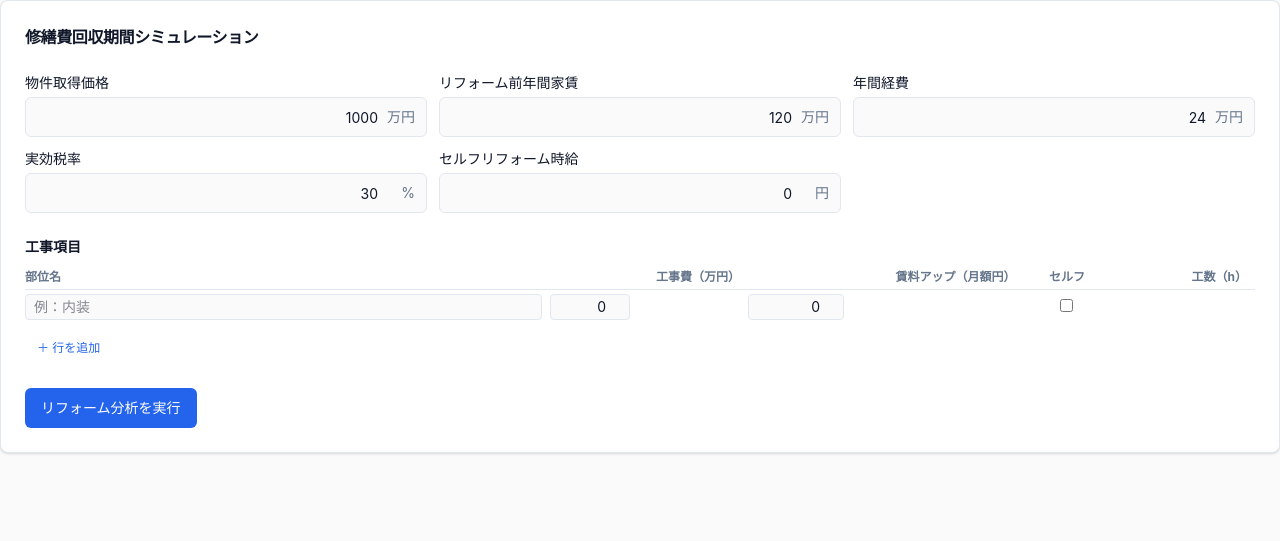
Scenario: RenovationPanel › 工事項目が0件で実行するとバリデーションエラーが表示される
Click the button with aria-label "工事項目を追加".
click(69, 348)  # box [25,332,112,364]
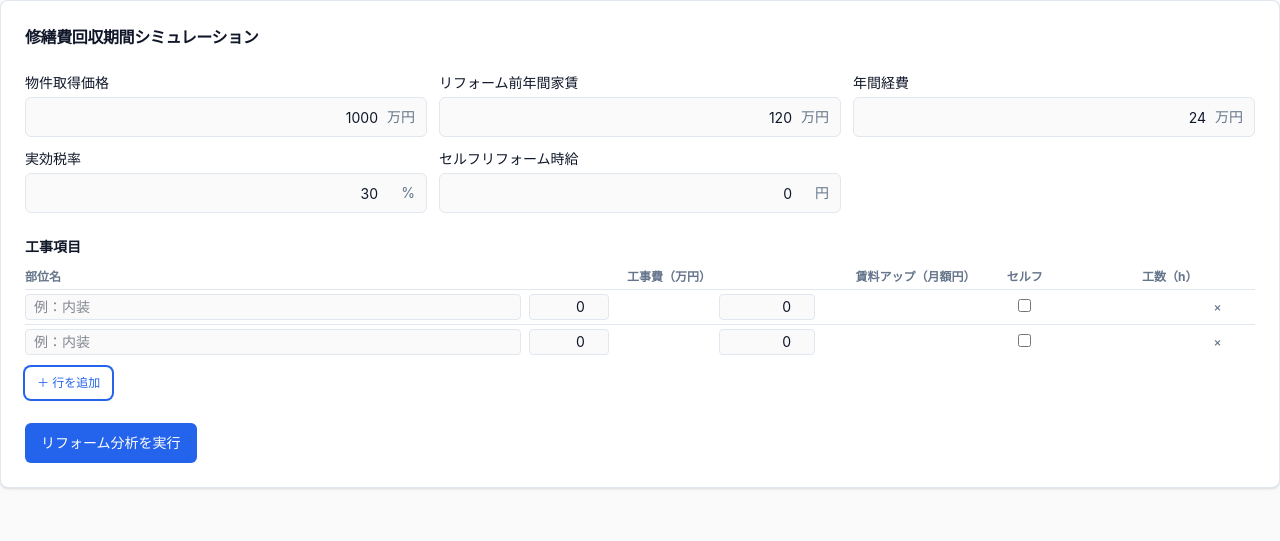
Click the button with aria-label "工事項目を追加".
click(69, 383)  # box [25,367,112,399]
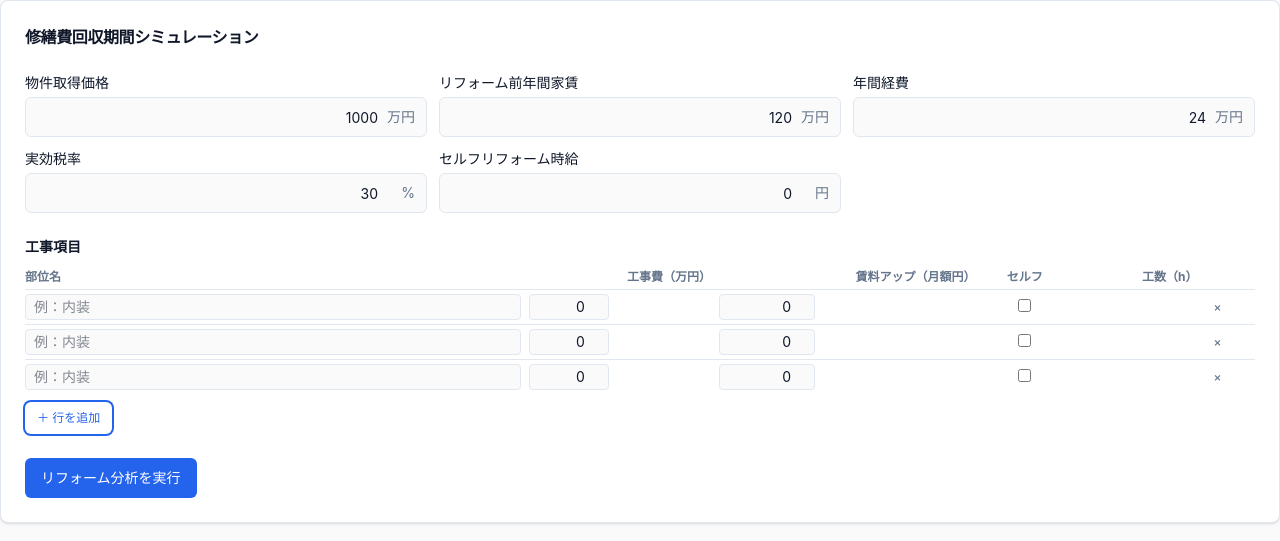
Result: the number of buttons "×" is 3
Click the 1st button "×".
click(1217, 307)  # box [1205,295,1229,319]
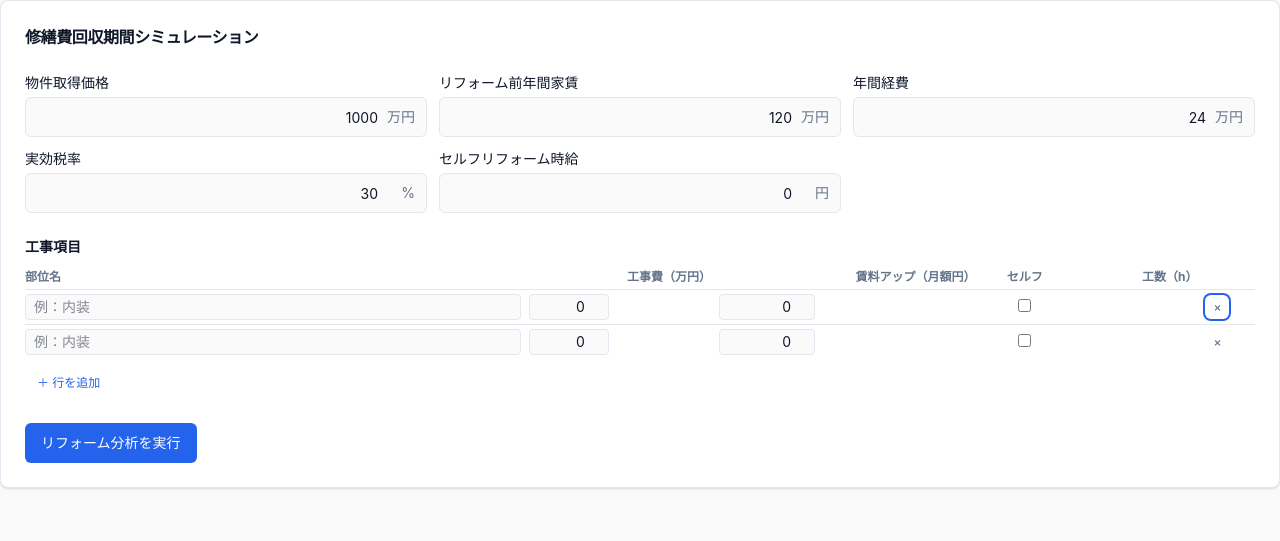
// 2件 → 削除ボタンが2つ
Click the 1st button "×".
click(1217, 307)  # box [1205,295,1229,319]
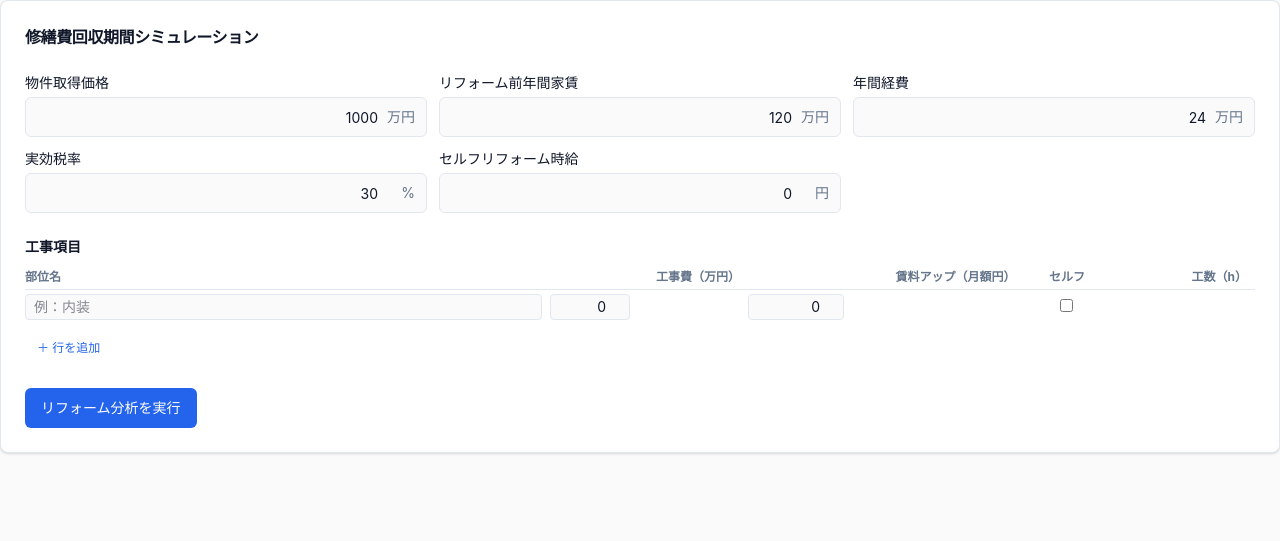
Click the button "リフォーム分析を実行".
click(111, 408)  # box [25,388,197,428]
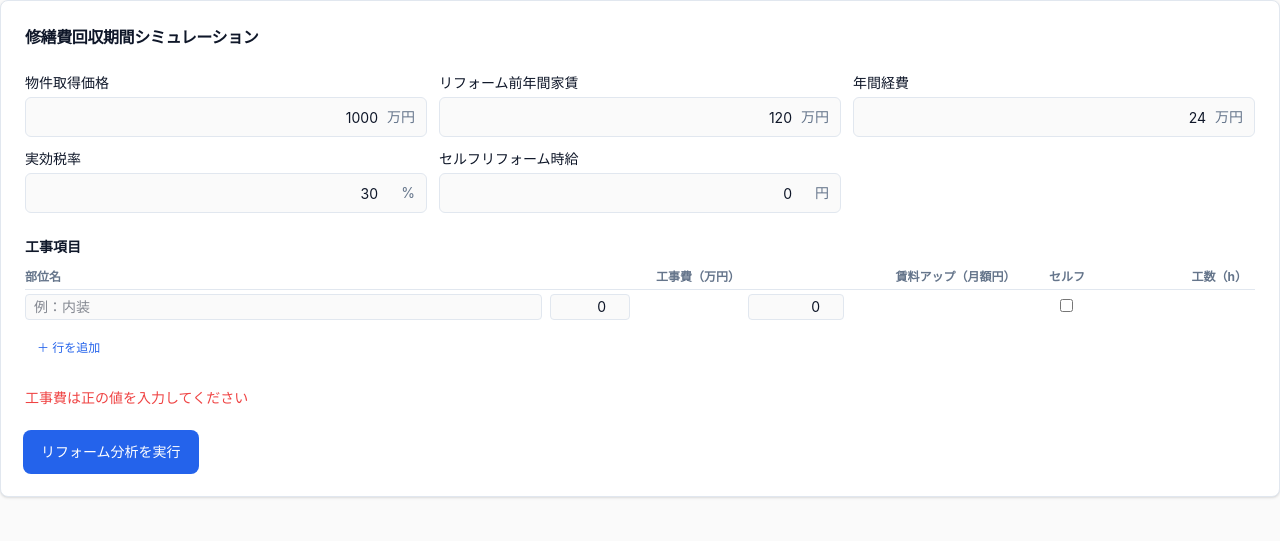
Result: the text "工事費は正の値を入力してください" is shown at [25,389,248,406]
